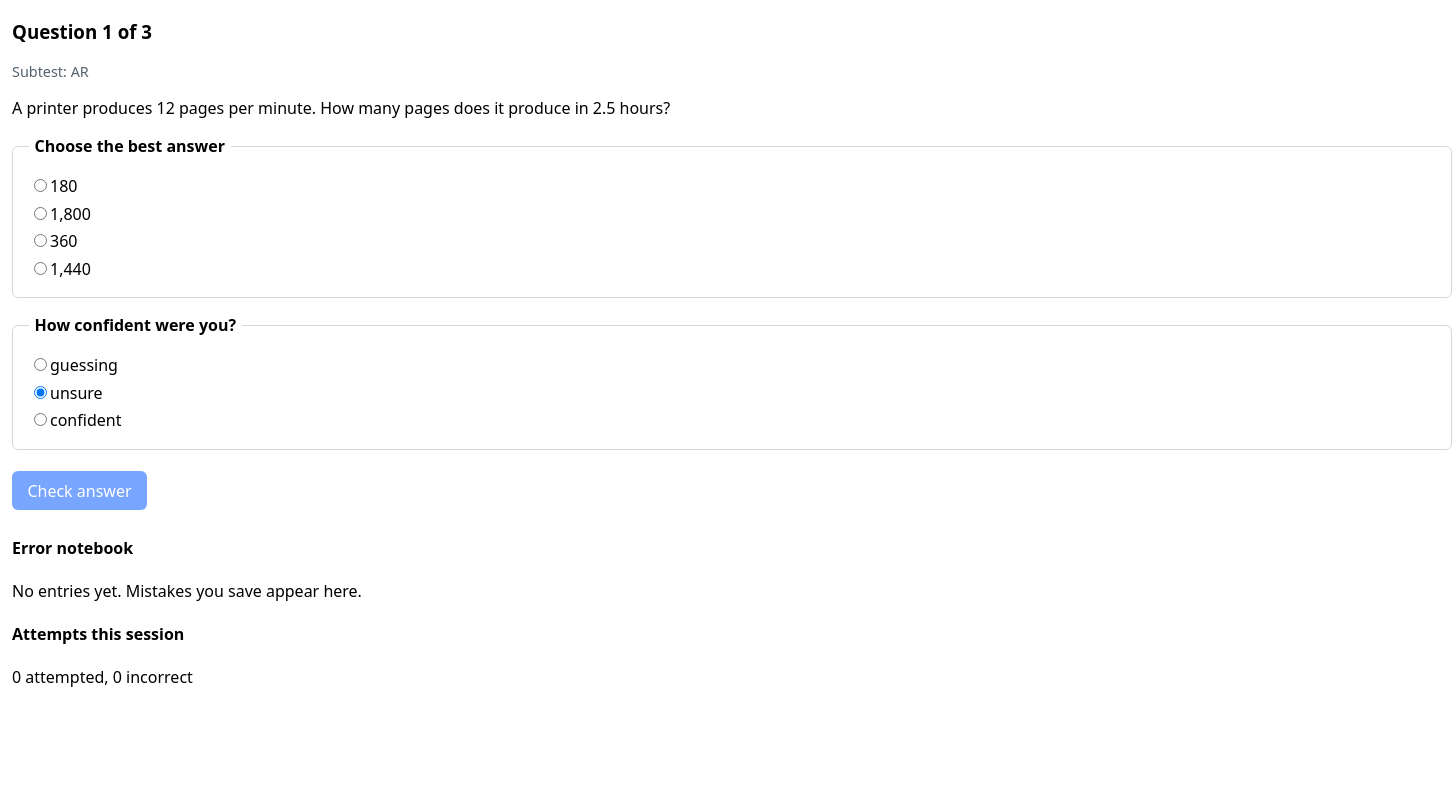
Scenario: practice view › records an incorrect attempt in the session summary
This screenshot has width=1452, height=810.
Click the radio button labelled "180". click: (40, 186)
box: x1=34 y1=179 x2=47 y2=192
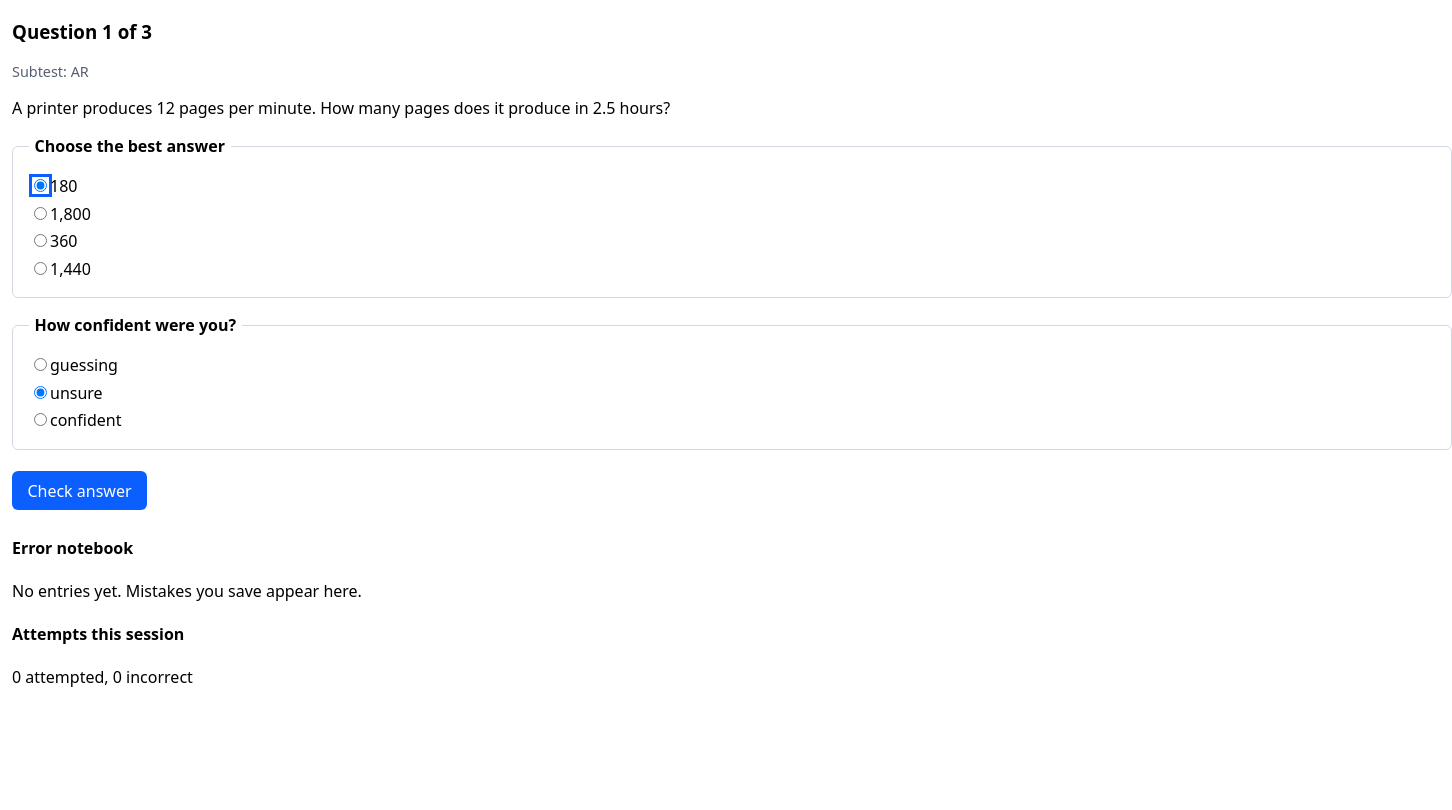
Click the button "Check answer". click: (79, 491)
box: x1=12 y1=471 x2=147 y2=510
(page scrolled)
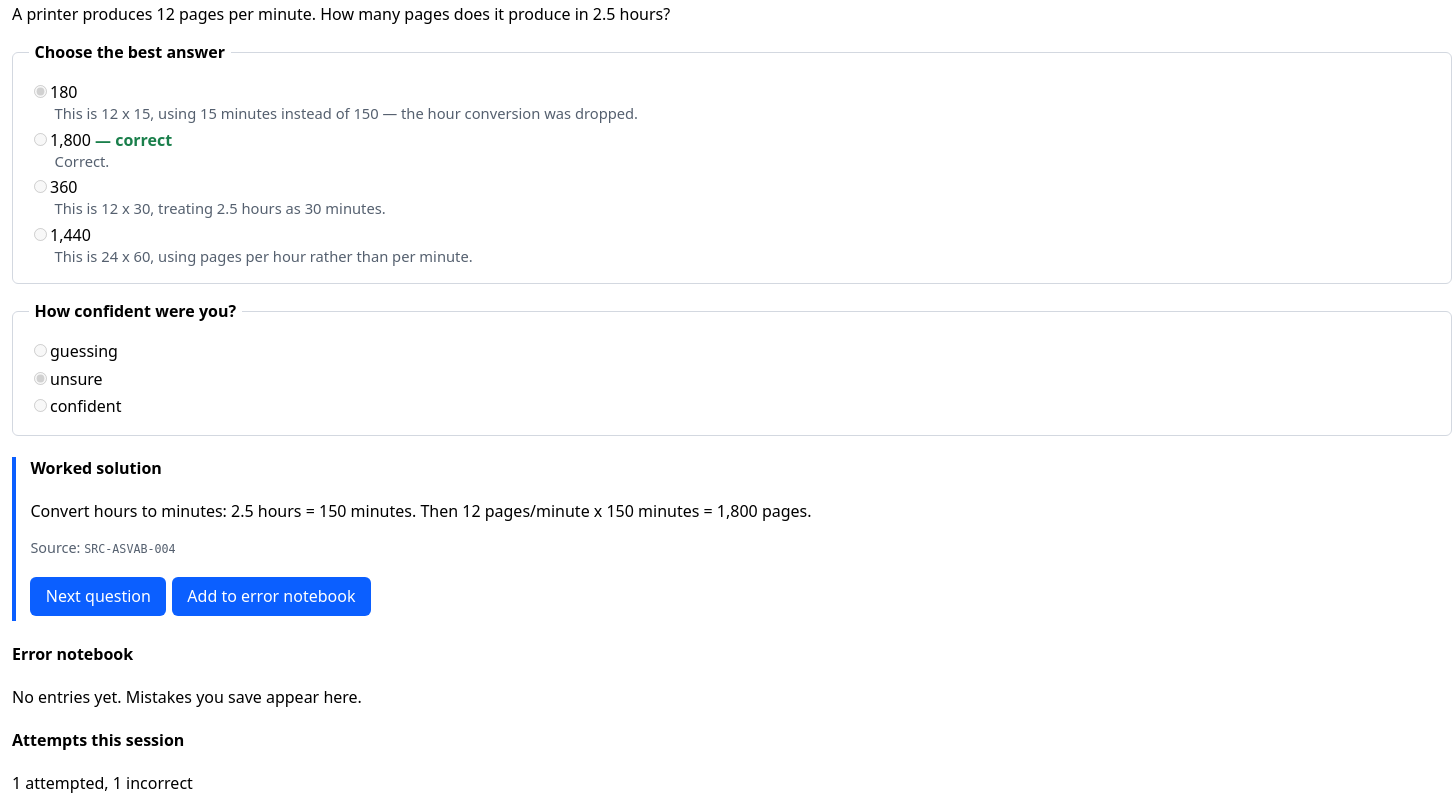
Expected: the text with test id "attempt-summary" reads "1 attempted, 1 incorrect", x1=12 y1=772 x2=193 y2=794
